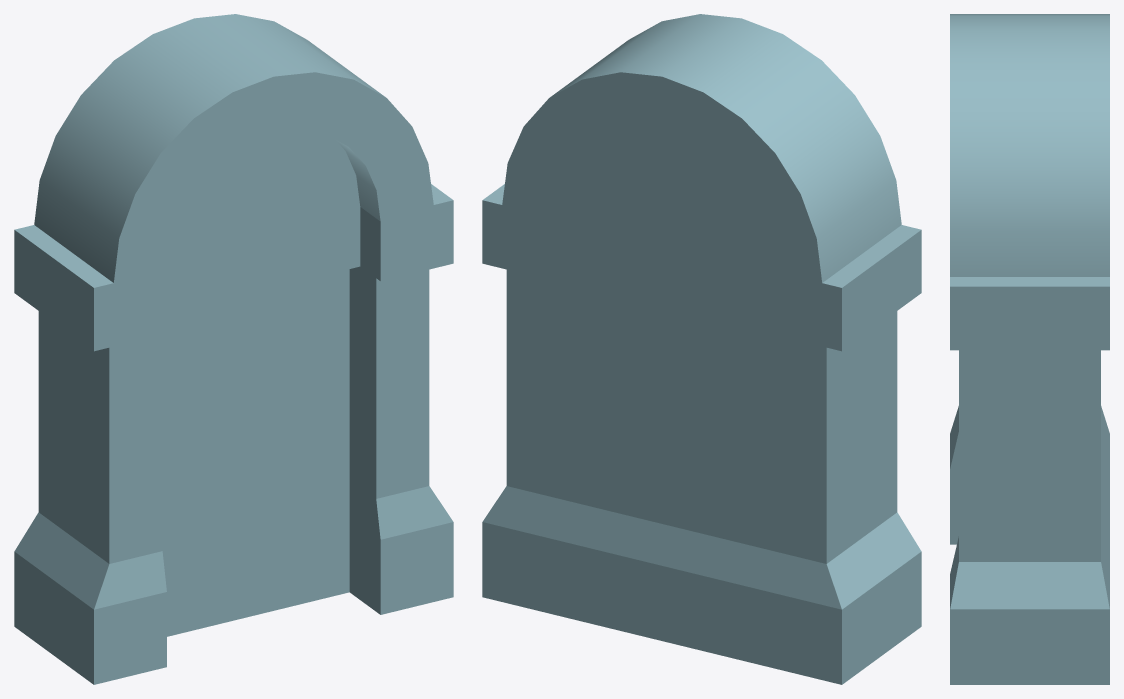
The model's file is gravestoneRound.obj.
3 views of the same model, side by side, from view 1: azimuth 30°, elevation 25°; view 2: azimuth 150°, elevation 25°; view 3: azimuth 270°, elevation 25° (orthographic).
Parts seen in each view (by area): view 1: gravestoneRound; view 2: gravestoneRound; view 3: gravestoneRound.
Part boxes in pixels (x1,y1,x2,y2): gravestoneRound: (14,14,453,684); gravestoneRound: (482,14,921,684); gravestoneRound: (950,14,1109,684).
Bounding box in the file's own units: 0.39 × 0.585 × 0.1495.
